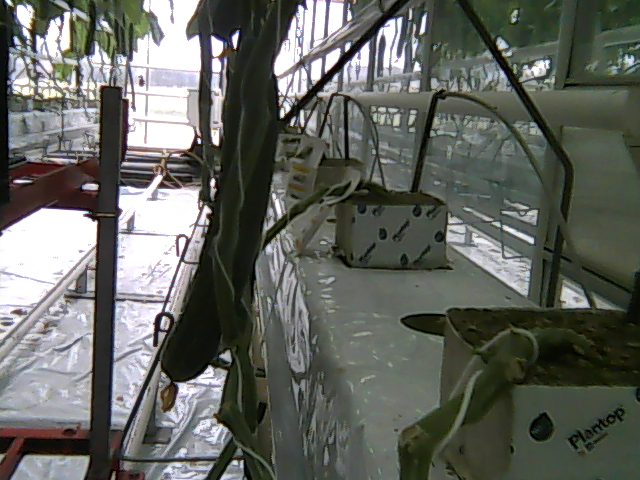concombre: (155, 26, 283, 414)
